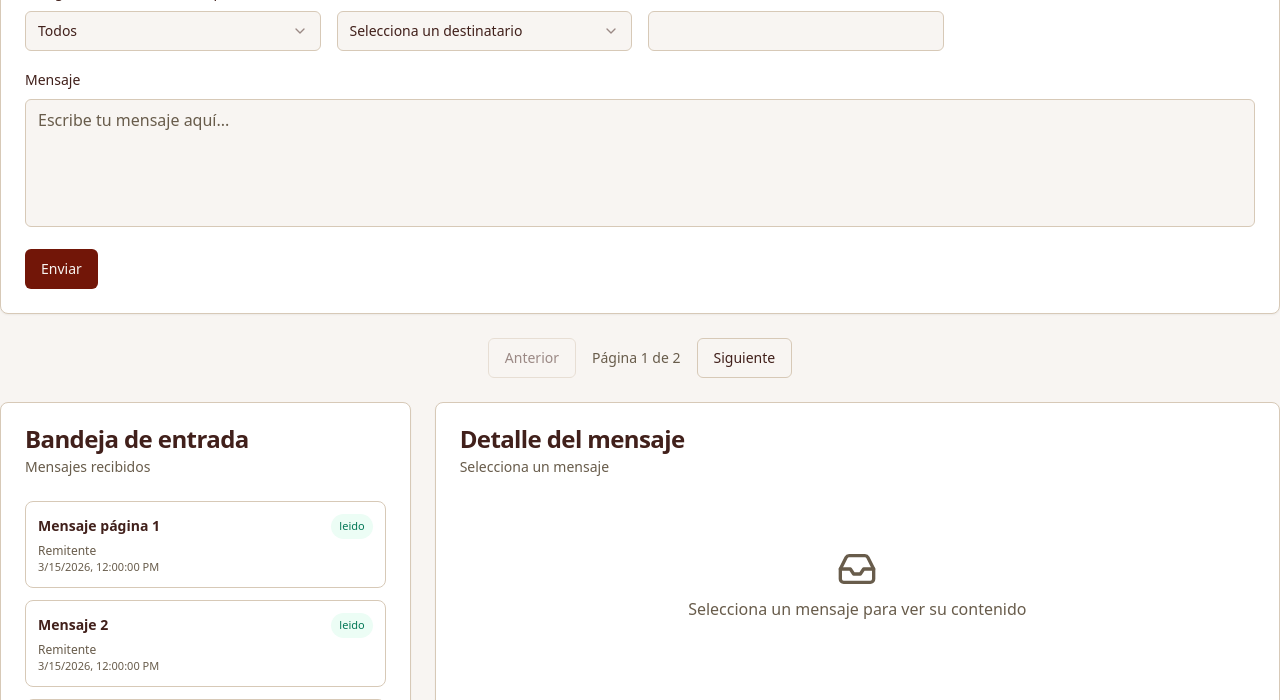
MensajesPage list controls › resets pagination when date, tab, or profile changes
(page scrolled)
Check: the text "Mensaje página 1" is shown, box [38,516,160,536]
Step 1. Click the button "Siguiente" → coordinates (744, 358), box [696,338,792,378]
(page scrolled)
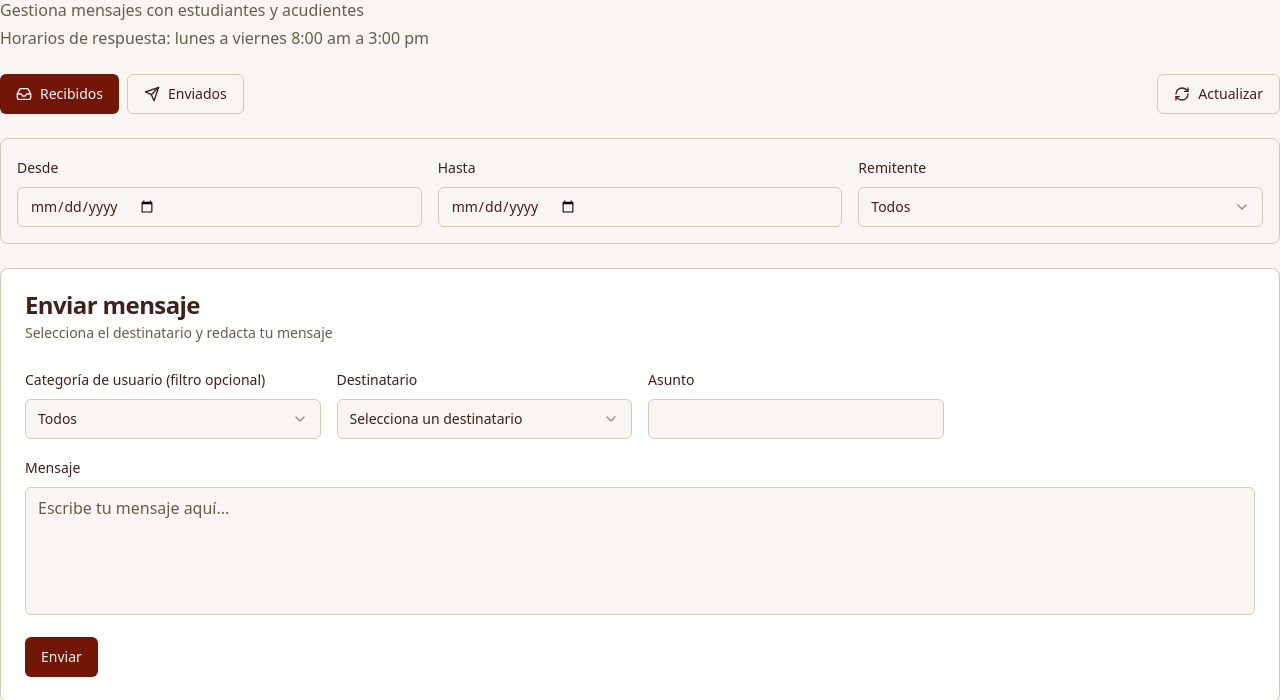
Step 2. Type "2026-03-01" into the date field labelled "Desde" → coordinates (219, 207), box [17,187,422,227]
(page scrolled)
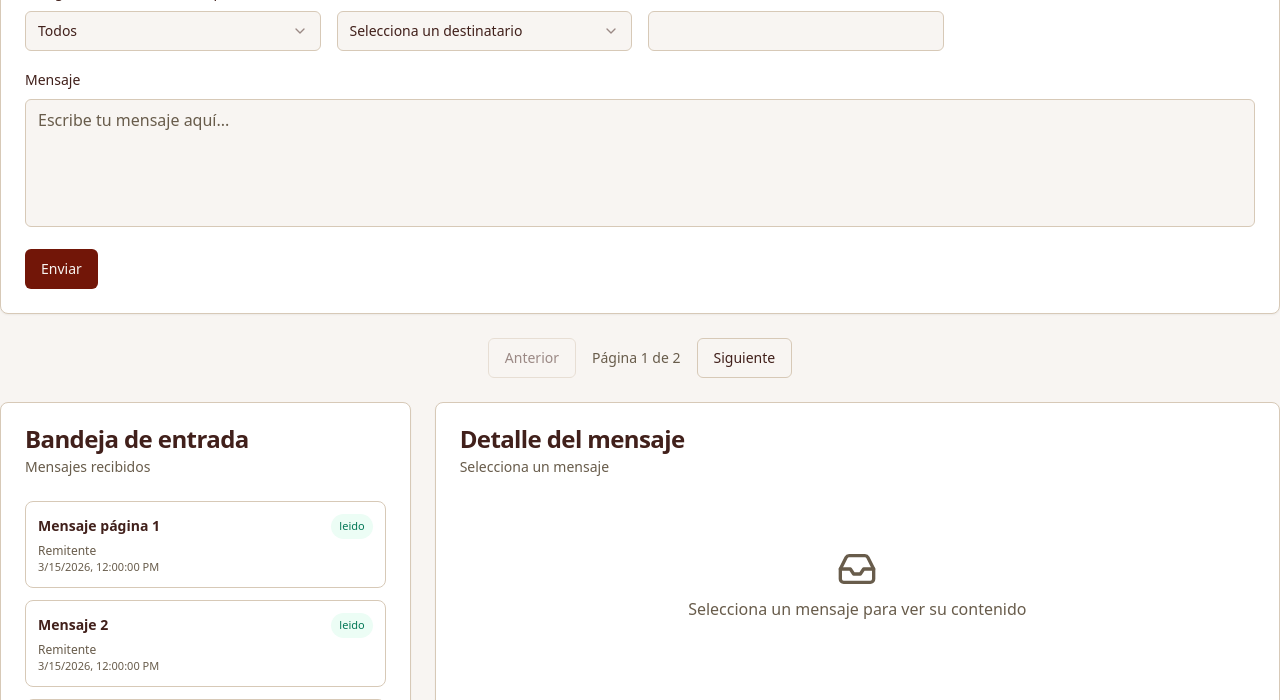
Step 3. Click the button "Siguiente" → coordinates (744, 358), box [696,338,792,378]
(page scrolled)
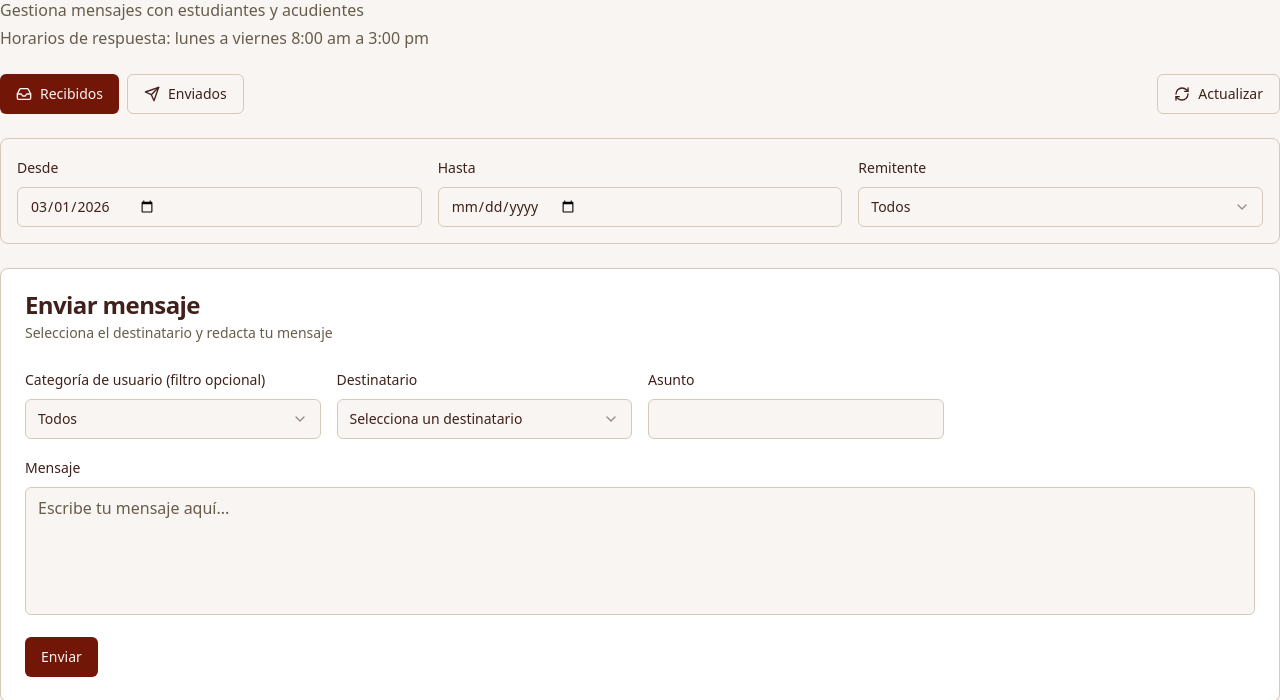
Step 4. Click the button "Enviados" → coordinates (185, 94), box [127,74,244,114]
(page scrolled)
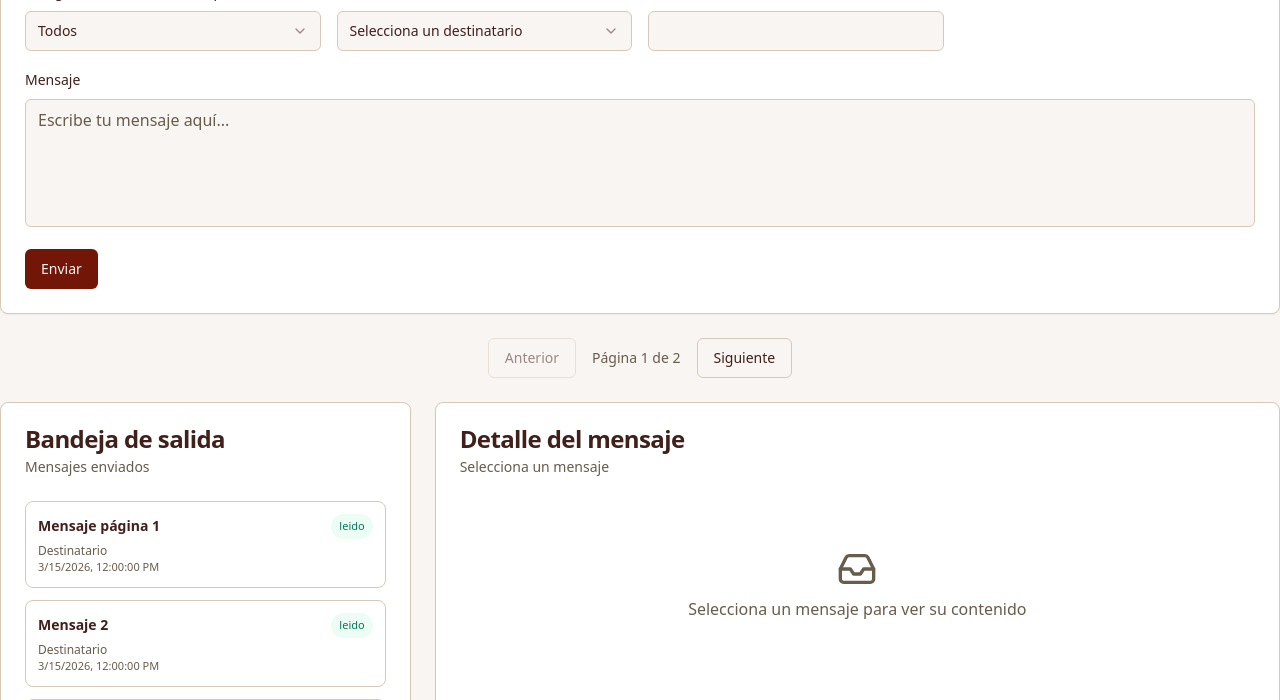
Step 5. Click the button "Siguiente" → coordinates (744, 358), box [696,338,792,378]
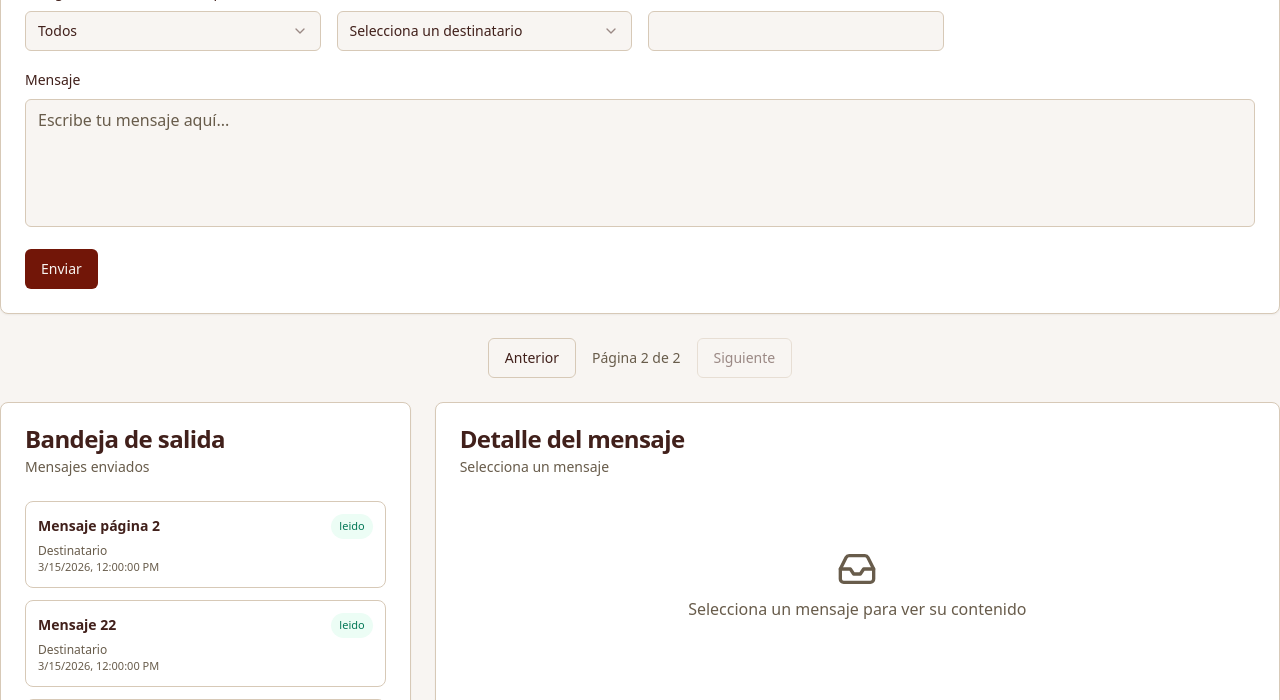
Check: the text "Mensaje página 2" is shown, box [38,516,160,536]
